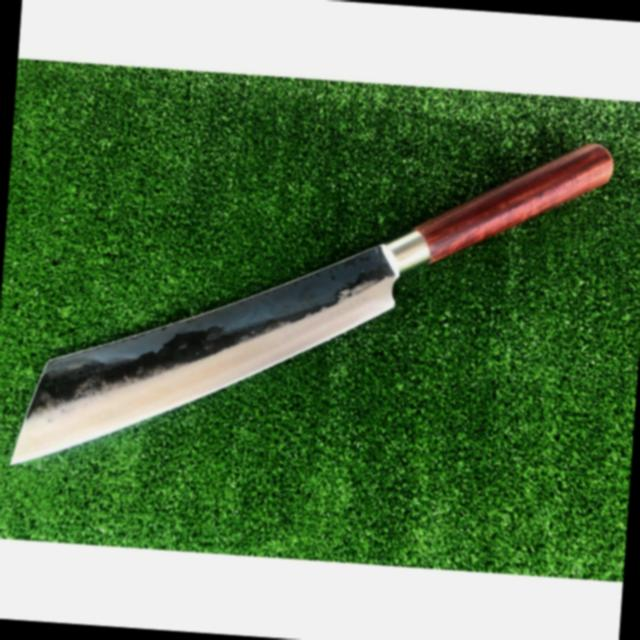eto: (2, 130, 628, 477)
